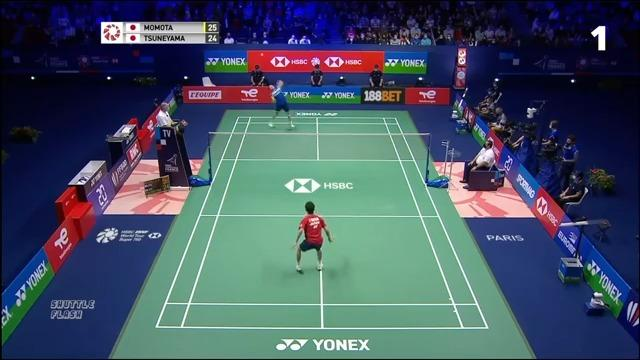Shuttlecock: (258, 52, 266, 60)
